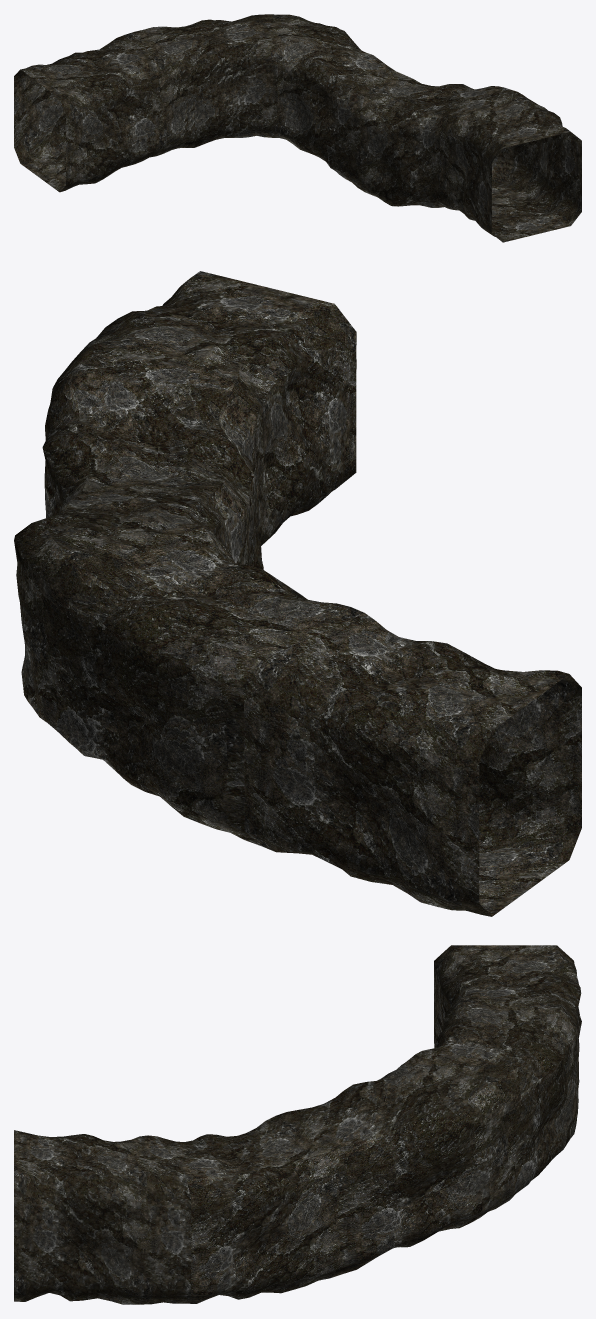
File: Cave_071.fbx
3 renders of one model, top to bottom at view 1: azimuth 30°, elevation 25°; view 2: azimuth 150°, elevation 25°; view 3: azimuth 270°, elevation 25°, orthographic. The views are drawn at different scales.
Parts seen in each view (by area): view 1: Cave.071; view 2: Cave.071; view 3: Cave.071.
Part boxes in pixels (box(x1,y1,x2,y2)): Cave.071: box(14, 14, 581, 242); Cave.071: box(14, 271, 581, 916); Cave.071: box(14, 945, 581, 1304).
Size of the model in its own units: 1221 by 400 by 1217.
